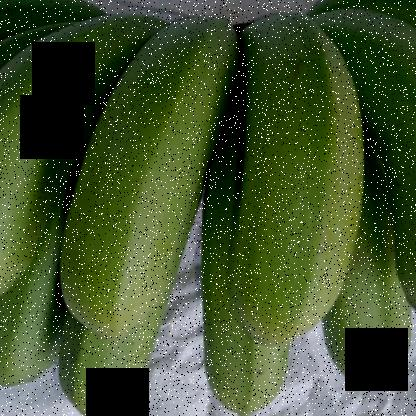freshunripe: (64, 1, 236, 337), (225, 1, 361, 358), (0, 4, 108, 321), (187, 113, 283, 415), (321, 240, 411, 415), (376, 1, 415, 343), (58, 313, 151, 416), (0, 284, 64, 406)
